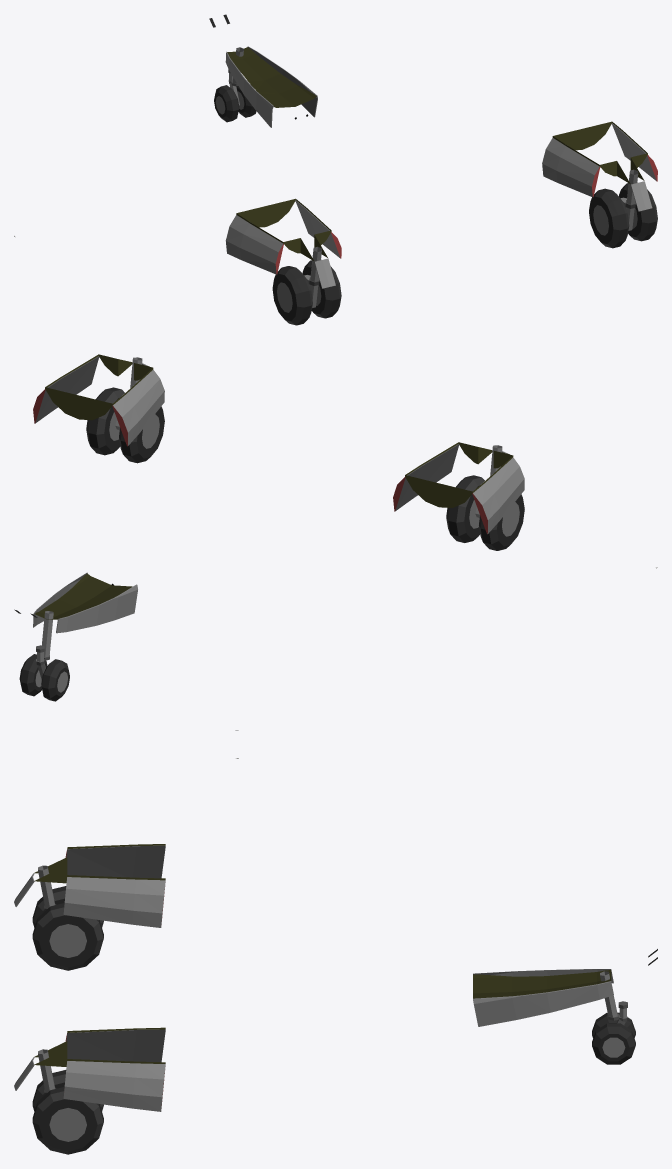
Rendered from Gear_B29NP.obj.
3 renders of one model, top to bottom at view 1: azimuth 30°, elevation 25°; view 2: azimuth 150°, elevation 25°; view 3: azimuth 270°, elevation 25°, orthographic. The views are drawn at different scales.
Parts seen in each view (by area): view 1: ShapeIndexedFaceSet.137_ShapeIndexedFaceSet.138, ShapeIndexedFaceSet.103_ShapeIndexedFaceSet.104, ShapeIndexedFaceSet.124_ShapeIndexedFaceSet.125, ShapeIndexedFaceSet.112_ShapeIndexedFaceSet.113, ShapeIndexedFaceSet.105_ShapeIndexedFaceSet.106, ShapeIndexedFaceSet.109_ShapeIndexedFaceSet.110, ShapeIndexedFaceSet.107_ShapeIndexedFaceSet.108, ShapeIndexedFaceSet.111_ShapeIndexedFaceSet.112, ShapeIndexedFaceSet.108_ShapeIndexedFaceSet.109, ShapeIndexedFaceSet.104_ShapeIndexedFaceSet.105, ShapeIndexedFaceSet.097_ShapeIndexedFaceSet.098, ShapeIndexedFaceSet.119_ShapeIndexedFaceSet.120 (+3 smaller); view 2: ShapeIndexedFaceSet.137_ShapeIndexedFaceSet.138, ShapeIndexedFaceSet.112_ShapeIndexedFaceSet.113, ShapeIndexedFaceSet.124_ShapeIndexedFaceSet.125, ShapeIndexedFaceSet.103_ShapeIndexedFaceSet.104, ShapeIndexedFaceSet.097_ShapeIndexedFaceSet.098, ShapeIndexedFaceSet.109_ShapeIndexedFaceSet.110, ShapeIndexedFaceSet.105_ShapeIndexedFaceSet.106, ShapeIndexedFaceSet.119_ShapeIndexedFaceSet.120, ShapeIndexedFaceSet.123_ShapeIndexedFaceSet.124, ShapeIndexedFaceSet.111_ShapeIndexedFaceSet.112, ShapeIndexedFaceSet.107_ShapeIndexedFaceSet.108, ShapeIndexedFaceSet.096_ShapeIndexedFaceSet.097 (+3 smaller); view 3: ShapeIndexedFaceSet.116_ShapeIndexedFaceSet.117, ShapeIndexedFaceSet.120_ShapeIndexedFaceSet.121, ShapeIndexedFaceSet.100_ShapeIndexedFaceSet.101, ShapeIndexedFaceSet.115_ShapeIndexedFaceSet.116, ShapeIndexedFaceSet.127_ShapeIndexedFaceSet.128, ShapeIndexedFaceSet.103_ShapeIndexedFaceSet.104, ShapeIndexedFaceSet.137_ShapeIndexedFaceSet.138, ShapeIndexedFaceSet.109_ShapeIndexedFaceSet.110, ShapeIndexedFaceSet.105_ShapeIndexedFaceSet.106, ShapeIndexedFaceSet.104_ShapeIndexedFaceSet.105, ShapeIndexedFaceSet.108_ShapeIndexedFaceSet.109, ShapeIndexedFaceSet.107_ShapeIndexedFaceSet.108 (+4 smaller).
Boxes of the visible parts, x1=… form: ShapeIndexedFaceSet.137_ShapeIndexedFaceSet.138: x1=236, y1=121, x2=647, y2=261; ShapeIndexedFaceSet.103_ShapeIndexedFaceSet.104: x1=227, y1=47, x2=316, y2=107; ShapeIndexedFaceSet.124_ShapeIndexedFaceSet.125: x1=542, y1=138, x2=599, y2=197; ShapeIndexedFaceSet.112_ShapeIndexedFaceSet.113: x1=225, y1=215, x2=282, y2=274; ShapeIndexedFaceSet.105_ShapeIndexedFaceSet.106: x1=272, y1=259, x2=339, y2=325; ShapeIndexedFaceSet.109_ShapeIndexedFaceSet.110: x1=589, y1=182, x2=656, y2=248; ShapeIndexedFaceSet.107_ShapeIndexedFaceSet.108: x1=274, y1=260, x2=341, y2=325; ShapeIndexedFaceSet.111_ShapeIndexedFaceSet.112: x1=591, y1=183, x2=657, y2=248; ShapeIndexedFaceSet.108_ShapeIndexedFaceSet.109: x1=593, y1=169, x2=638, y2=235; ShapeIndexedFaceSet.104_ShapeIndexedFaceSet.105: x1=277, y1=246, x2=321, y2=312; ShapeIndexedFaceSet.097_ShapeIndexedFaceSet.098: x1=225, y1=52, x2=272, y2=127; ShapeIndexedFaceSet.119_ShapeIndexedFaceSet.120: x1=611, y1=123, x2=656, y2=181; ShapeIndexedFaceSet.137_ShapeIndexedFaceSet.138: x1=45, y1=354, x2=513, y2=507; ShapeIndexedFaceSet.112_ShapeIndexedFaceSet.113: x1=473, y1=457, x2=524, y2=533; ShapeIndexedFaceSet.124_ShapeIndexedFaceSet.125: x1=113, y1=369, x2=164, y2=445; ShapeIndexedFaceSet.103_ShapeIndexedFaceSet.104: x1=35, y1=573, x2=132, y2=619; ShapeIndexedFaceSet.097_ShapeIndexedFaceSet.098: x1=56, y1=585, x2=137, y2=633; ShapeIndexedFaceSet.109_ShapeIndexedFaceSet.110: x1=88, y1=387, x2=164, y2=462; ShapeIndexedFaceSet.105_ShapeIndexedFaceSet.106: x1=448, y1=475, x2=524, y2=550; ShapeIndexedFaceSet.119_ShapeIndexedFaceSet.120: x1=35, y1=356, x2=99, y2=423; ShapeIndexedFaceSet.123_ShapeIndexedFaceSet.124: x1=395, y1=444, x2=459, y2=510; ShapeIndexedFaceSet.111_ShapeIndexedFaceSet.112: x1=86, y1=389, x2=162, y2=463; ShapeIndexedFaceSet.107_ShapeIndexedFaceSet.108: x1=446, y1=477, x2=522, y2=550; ShapeIndexedFaceSet.096_ShapeIndexedFaceSet.097: x1=20, y1=654, x2=69, y2=701; ShapeIndexedFaceSet.116_ShapeIndexedFaceSet.117: x1=63, y1=1061, x2=165, y2=1111; ShapeIndexedFaceSet.120_ShapeIndexedFaceSet.121: x1=63, y1=877, x2=165, y2=927; ShapeIndexedFaceSet.100_ShapeIndexedFaceSet.101: x1=473, y1=982, x2=613, y2=1026; ShapeIndexedFaceSet.115_ShapeIndexedFaceSet.116: x1=66, y1=846, x2=165, y2=878; ShapeIndexedFaceSet.127_ShapeIndexedFaceSet.128: x1=66, y1=1029, x2=165, y2=1062; ShapeIndexedFaceSet.103_ShapeIndexedFaceSet.104: x1=473, y1=970, x2=611, y2=998; ShapeIndexedFaceSet.137_ShapeIndexedFaceSet.138: x1=34, y1=844, x2=165, y2=1066; ShapeIndexedFaceSet.109_ShapeIndexedFaceSet.110: x1=32, y1=1070, x2=103, y2=1151; ShapeIndexedFaceSet.105_ShapeIndexedFaceSet.106: x1=32, y1=886, x2=103, y2=967; ShapeIndexedFaceSet.104_ShapeIndexedFaceSet.105: x1=38, y1=865, x2=86, y2=957; ShapeIndexedFaceSet.108_ShapeIndexedFaceSet.109: x1=38, y1=1049, x2=86, y2=1141; ShapeIndexedFaceSet.107_ShapeIndexedFaceSet.108: x1=32, y1=890, x2=103, y2=970.
Bounding box in the file's own units: 152 × 22.5 × 123.
